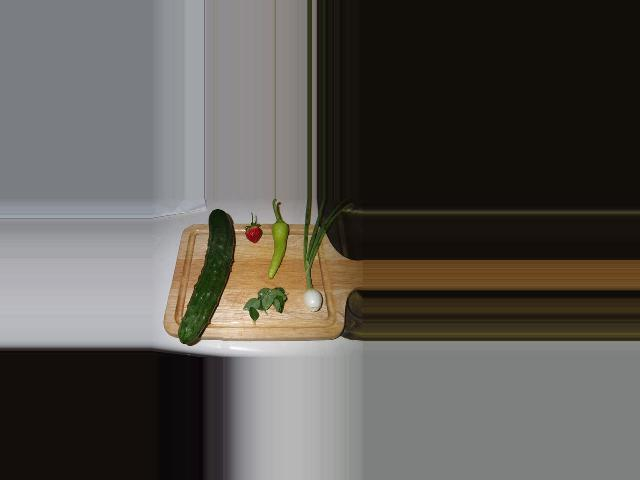cucumber: (177, 210, 234, 344)
